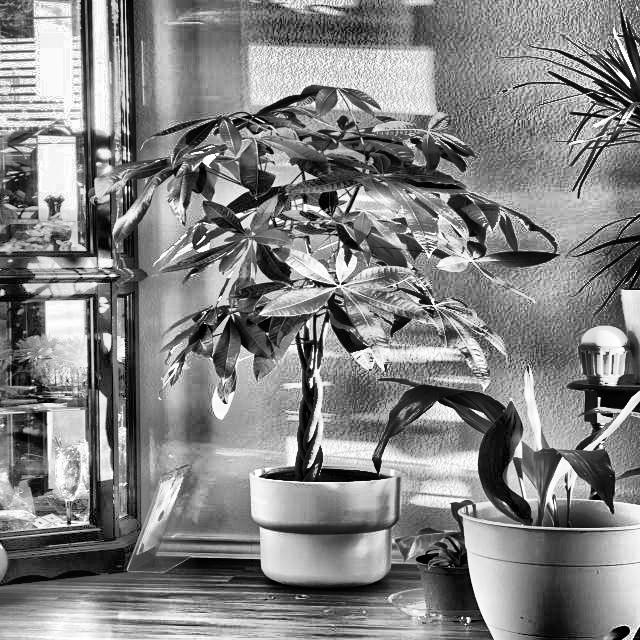plants: (99, 82, 560, 469)
